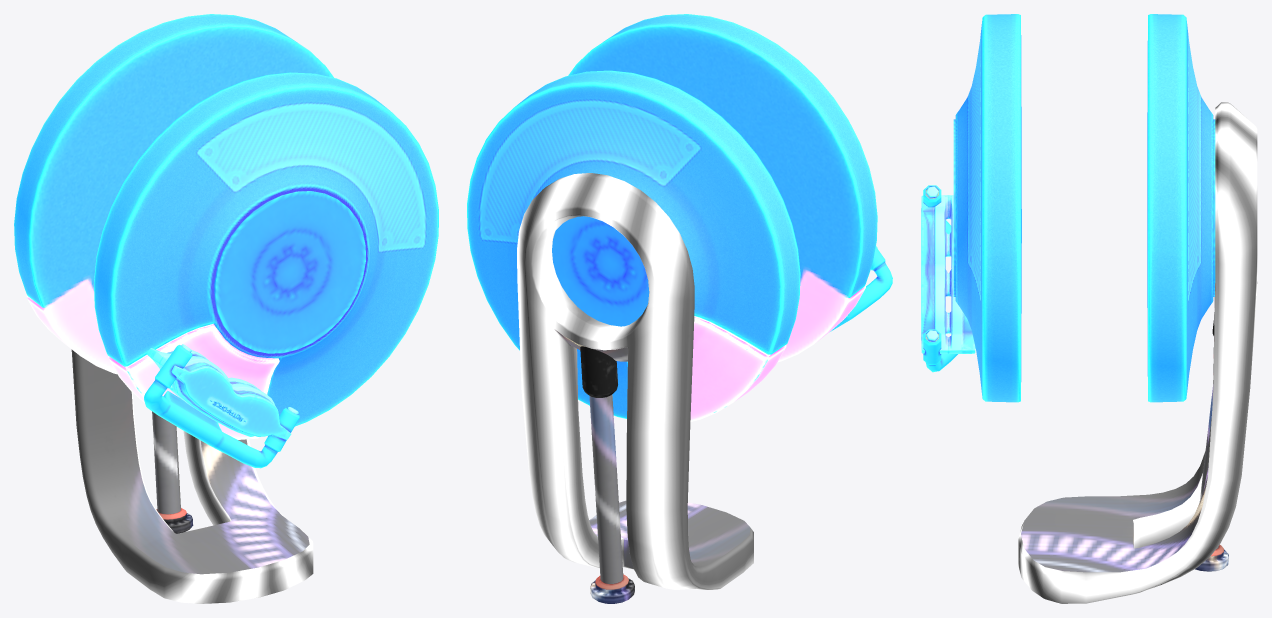
Rendered from SM_CP_Motorcycle01_Wheel_Back.fbx.
The picture shows the model from 3 angles, left to right: view 1: azimuth 30°, elevation 25°; view 2: azimuth 150°, elevation 25°; view 3: azimuth 270°, elevation 25°; orthographic projection. The views are drawn at different scales.
Parts seen in each view (by area): view 1: SM_CP_Motorcycle01_Wheel_Back_LOD0; view 2: SM_CP_Motorcycle01_Wheel_Back_LOD0; view 3: SM_CP_Motorcycle01_Wheel_Back_LOD0.
Part boxes in pixels (x1,y1,x2,y2): SM_CP_Motorcycle01_Wheel_Back_LOD0: [14, 14, 438, 603]; SM_CP_Motorcycle01_Wheel_Back_LOD0: [467, 14, 892, 603]; SM_CP_Motorcycle01_Wheel_Back_LOD0: [921, 14, 1257, 603].
Bounding box in the file's own units: 49.03 × 42.43 × 74.53.
